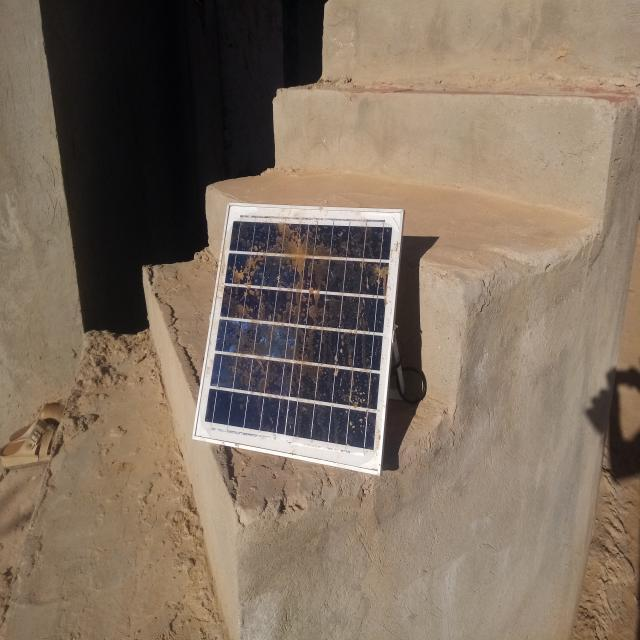faulty: (192, 204, 403, 477)
